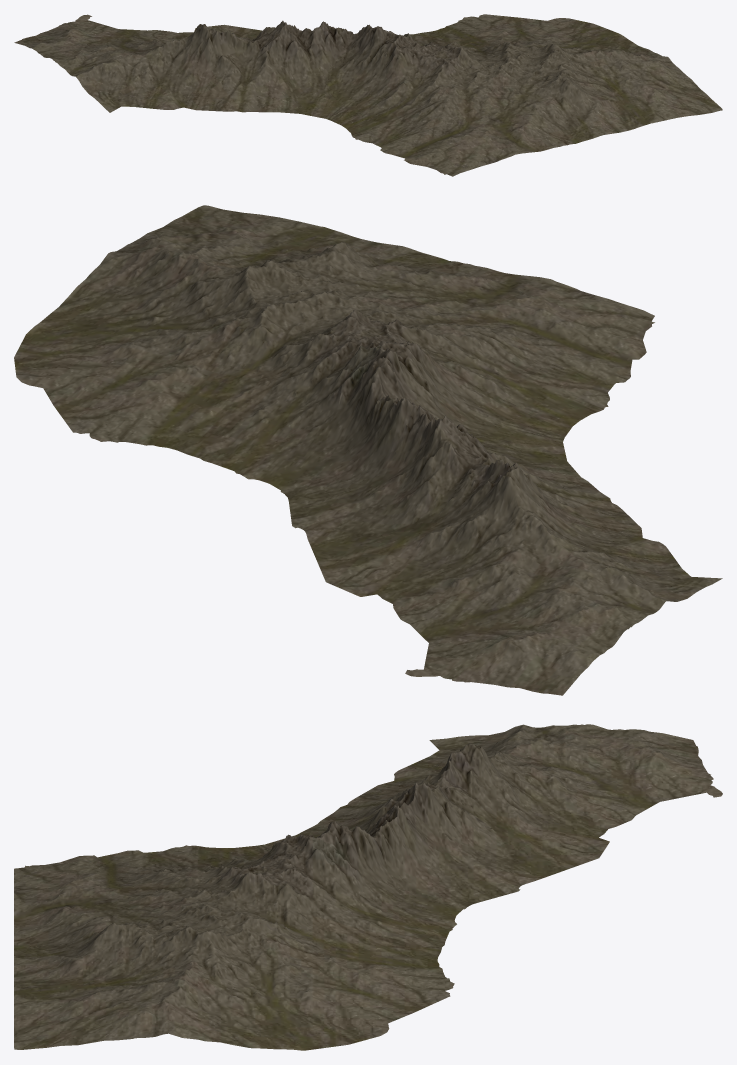
Rendered from CAER_Landscape-transformed.glb.
3 renders of one model, top to bottom at view 1: azimuth 30°, elevation 25°; view 2: azimuth 150°, elevation 25°; view 3: azimuth 270°, elevation 25°, orthographic. The views are drawn at different scales.
Visible parts, largest first — view 1: default; view 2: default; view 3: default.
Boxes of the visible parts, left/top/right/bottom form: default: left=14, top=14, right=722, bottom=176; default: left=14, top=205, right=722, bottom=695; default: left=14, top=724, right=722, bottom=1050.
Bounding box in the file's own units: 100 × 11.29 × 96.42.
Materials: 1 (1 with a texture image).
